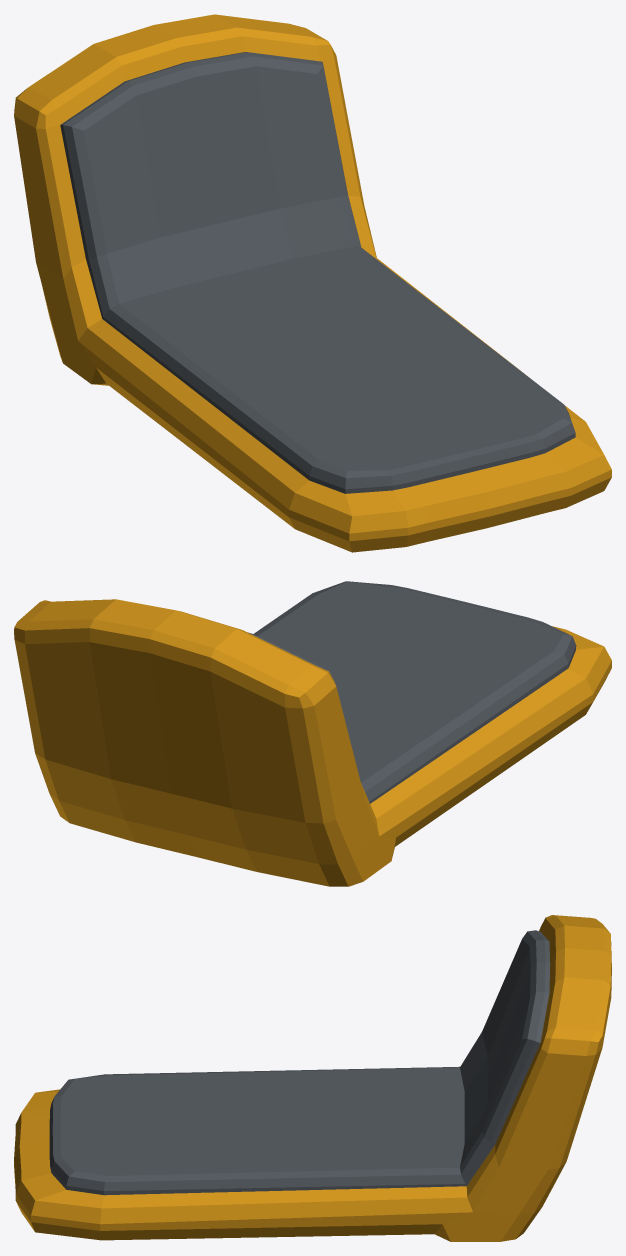
Rendered from Personal_Vehicle_03_Seat_Yellow.fbx.
The picture shows the model from 3 angles, top to bottom: view 1: azimuth 30°, elevation 25°; view 2: azimuth 150°, elevation 25°; view 3: azimuth 270°, elevation 25°; orthographic projection. The views are drawn at different scales.
Visible parts, largest first — view 1: Personal_Vehicle_03_Seat_Yellow; view 2: Personal_Vehicle_03_Seat_Yellow; view 3: Personal_Vehicle_03_Seat_Yellow.
Part boxes in pixels (<box>): Personal_Vehicle_03_Seat_Yellow: <box>14,14,611,552</box>; Personal_Vehicle_03_Seat_Yellow: <box>14,581,611,886</box>; Personal_Vehicle_03_Seat_Yellow: <box>14,915,611,1241</box>.
Size of the model in its own units: 43.57 by 36.77 by 84.59.
1 material, 1 textured.
